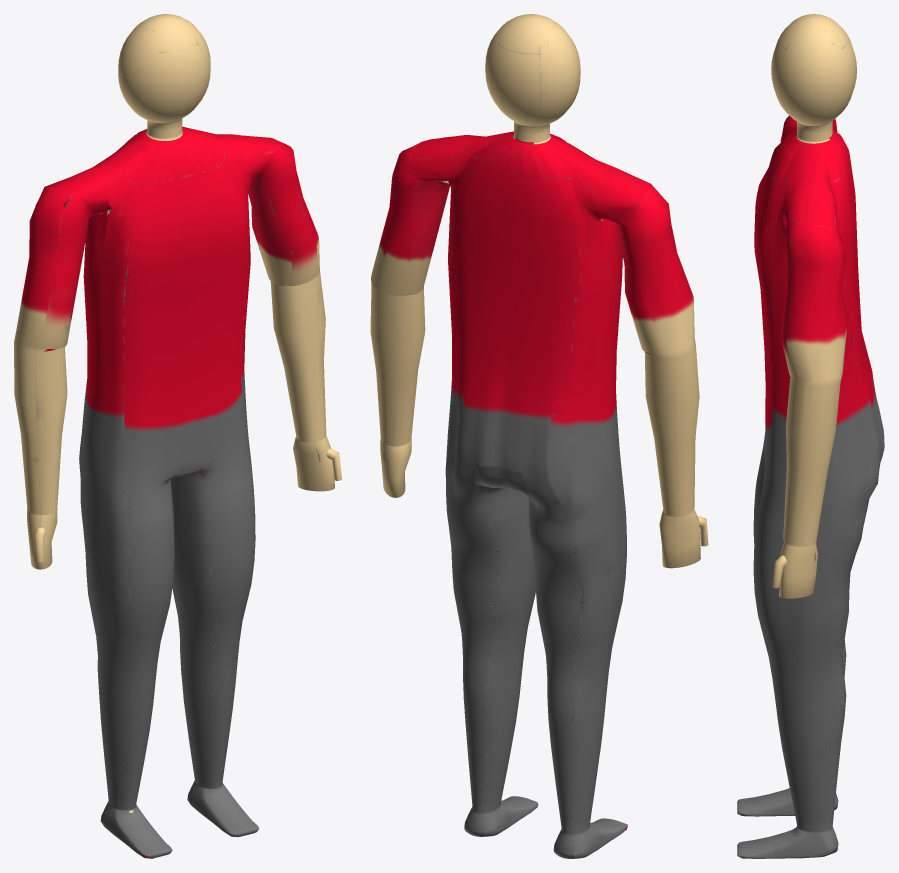
File: human.glb
3 views of the same model, side by side, from view 1: azimuth 30°, elevation 25°; view 2: azimuth 150°, elevation 25°; view 3: azimuth 270°, elevation 25° (orthographic). The views are drawn at different scales.
Parts seen in each view (by area): view 1: pSphere3; view 2: pSphere3; view 3: pSphere3.
Boxes of the visible parts, box(x1,y1,x2,y2) form: pSphere3: box(14, 14, 341, 858); pSphere3: box(370, 14, 708, 858); pSphere3: box(737, 14, 884, 858).
Size of the model in its own units: 0.0425 by 0.1049 by 0.0172.
Materials: 1 (1 with a texture image).
